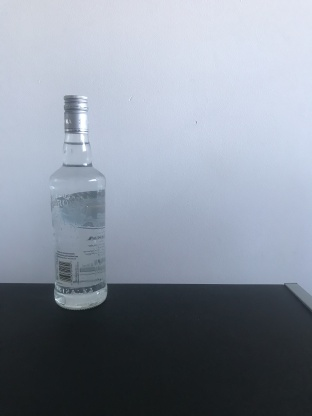nakretka: (62, 91, 89, 135)
